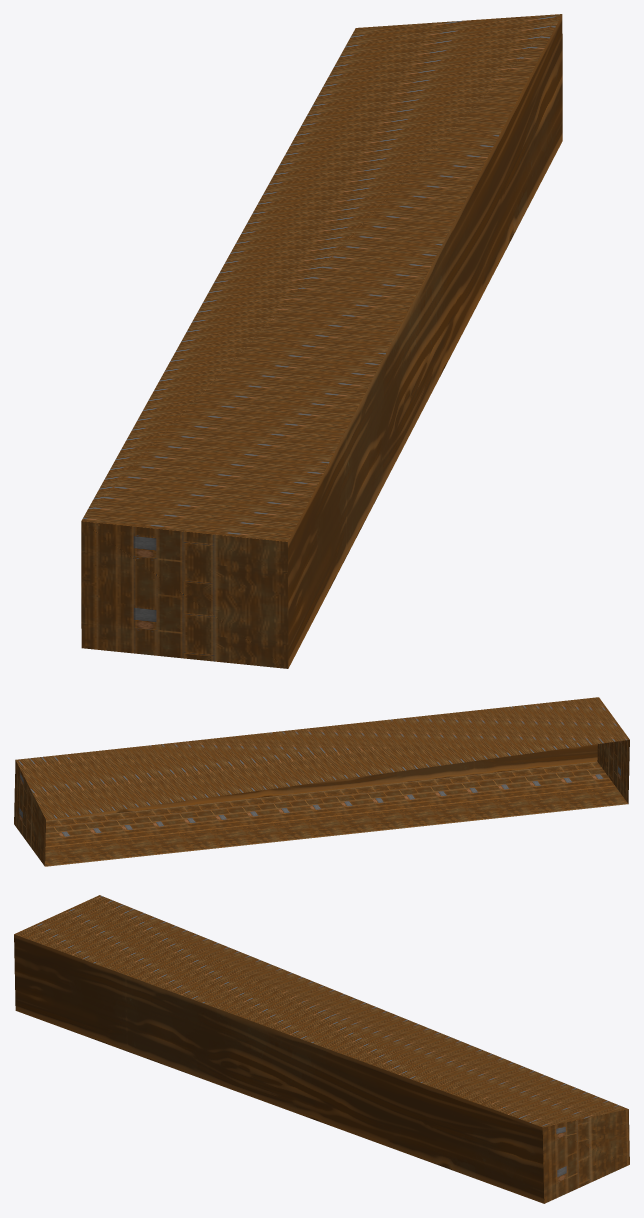
3 renders of one model, top to bottom at view 1: azimuth 30°, elevation 25°; view 2: azimuth 150°, elevation 25°; view 3: azimuth 270°, elevation 25°, orthographic. The views are drawn at different scales.
Visible parts, largest first — view 1: Cube.1913; view 2: Cube.1913; view 3: Cube.1913.
Boxes of the visible parts, <box> form: Cube.1913: <box>81,14,562,668</box>; Cube.1913: <box>14,697,629,866</box>; Cube.1913: <box>14,895,629,1203</box>.
Bounding box in the file's own units: 164 × 28.21 × 173.
Materials: 1 (1 with a texture image).
